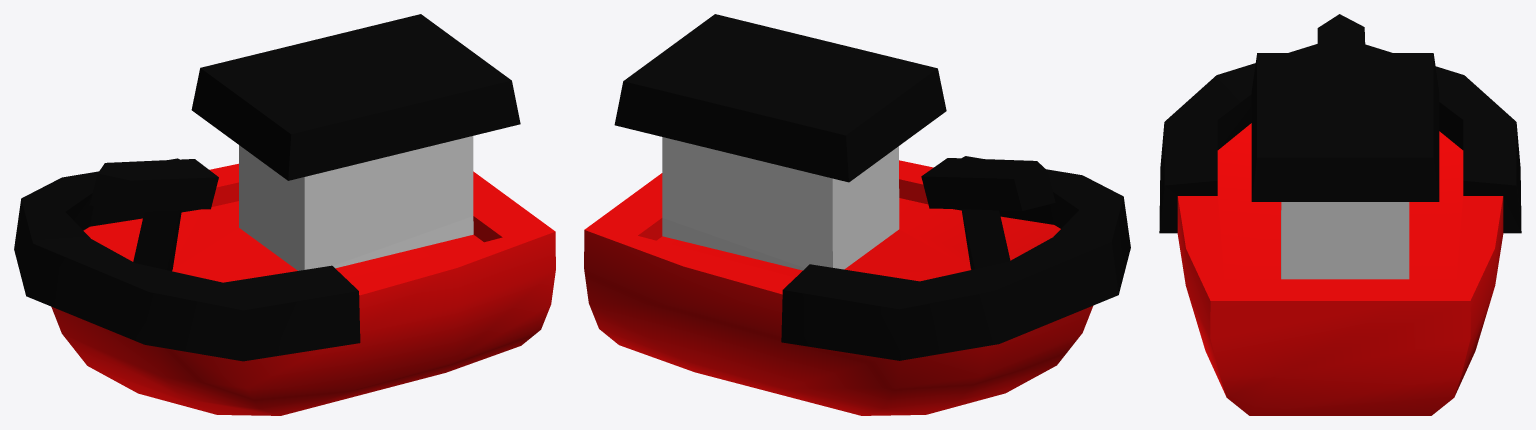
The model's file is tugboat.FBX.
The picture shows the model from 3 angles, left to right: view 1: azimuth 30°, elevation 25°; view 2: azimuth 150°, elevation 25°; view 3: azimuth 270°, elevation 25°; orthographic projection. The views are drawn at different scales.
Parts seen in each view (by area): view 1: Box001; view 2: Box001; view 3: Box001.
Boxes of the visible parts, x1,y1,x2,y2 form: Box001: [14, 14, 555, 415]; Box001: [584, 14, 1130, 415]; Box001: [1159, 14, 1521, 415].
Size of the model in its own units: 125 by 68.17 by 87.45.
